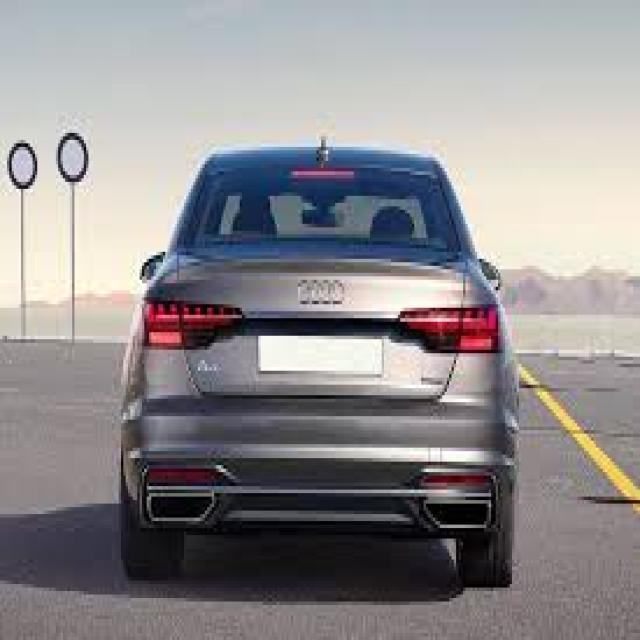Car: (121, 147, 516, 585)
